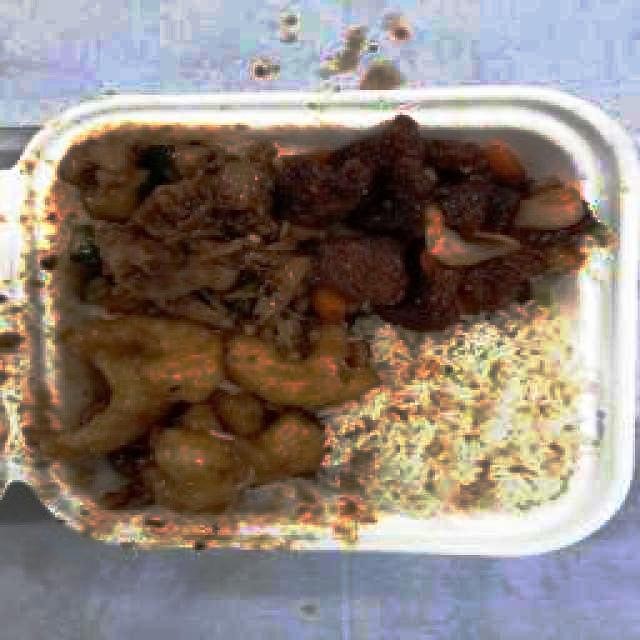Beijing Beef: (283, 114, 601, 323)
Kung Pao Chicken: (76, 144, 279, 321)
rice: (373, 331, 576, 513), (326, 408, 362, 479)
